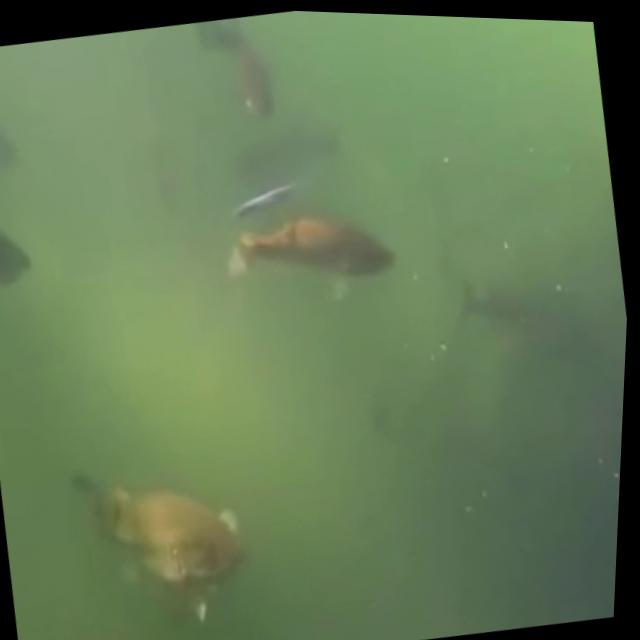fish: (43, 415, 282, 640), (212, 174, 428, 344), (160, 7, 299, 157), (0, 169, 57, 321)
